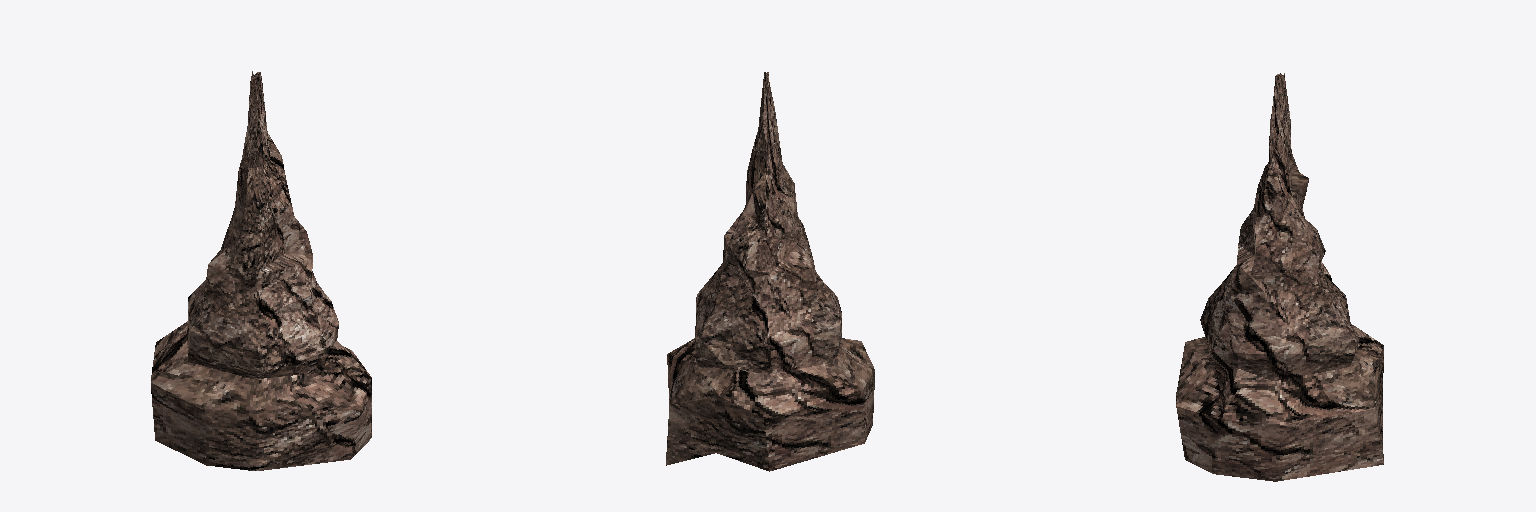
3 renders of one model, left to right at view 1: azimuth 30°, elevation 25°; view 2: azimuth 150°, elevation 25°; view 3: azimuth 270°, elevation 25°, orthographic.
Visible parts, largest first — view 1: Cylinder009; view 2: Cylinder009; view 3: Cylinder009.
Boxes of the visible parts, box(x1,y1,x2,y2) form: Cylinder009: box(151, 71, 371, 470); Cylinder009: box(666, 72, 874, 471); Cylinder009: box(1176, 73, 1383, 481).
Size of the model in its own units: 33.36 by 58.66 by 30.04.
1 materials, 1 textured.